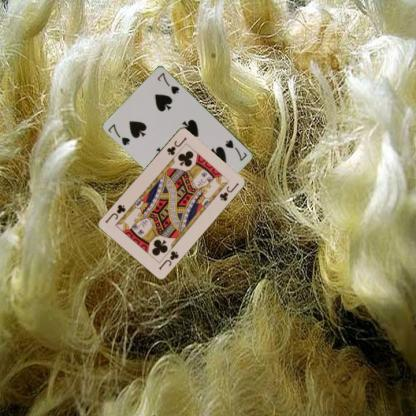7s: (223, 136, 249, 162), (106, 121, 132, 147)
Jc: (164, 134, 188, 156), (156, 248, 180, 270)
